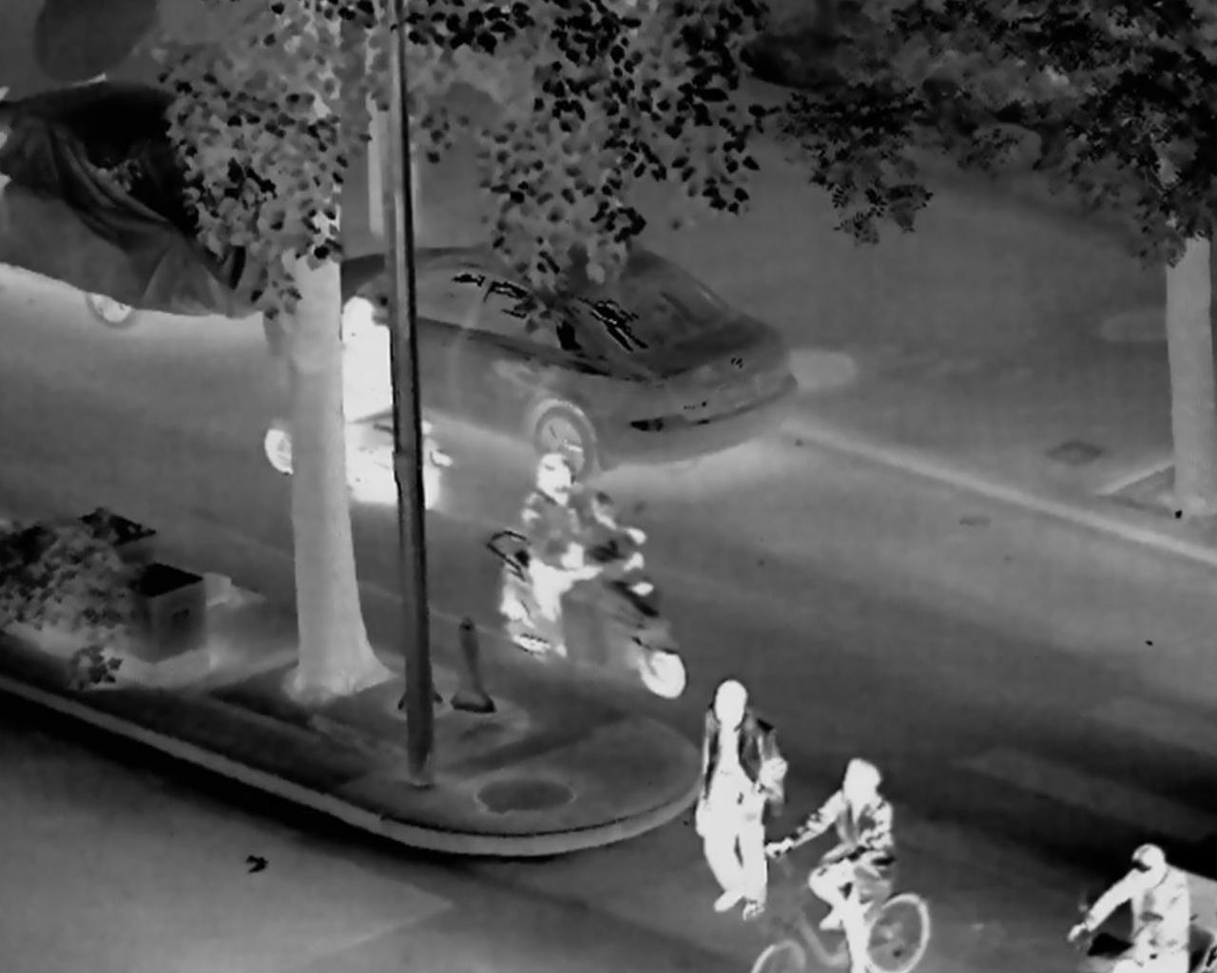person: (768, 754, 896, 973), (692, 677, 781, 922), (517, 452, 633, 627), (1071, 845, 1188, 973), (319, 296, 393, 456)
